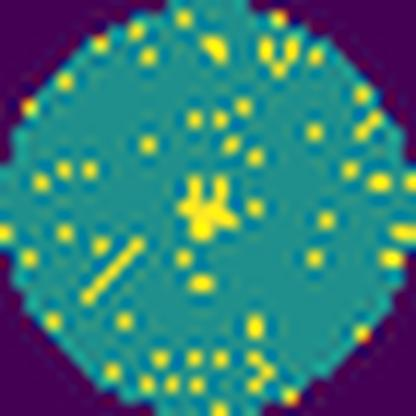Center: (176, 174, 240, 244)
